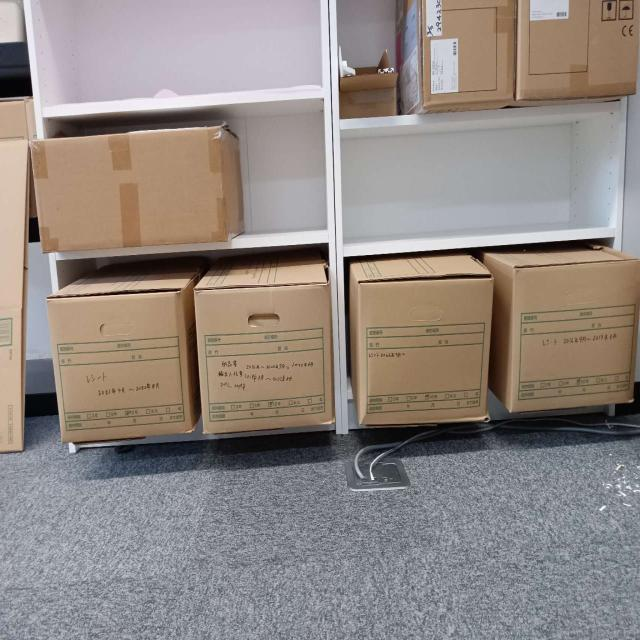box: (32, 126, 243, 246), (48, 276, 190, 438), (493, 249, 633, 412), (351, 258, 487, 420), (199, 265, 333, 429)
